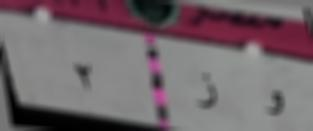2: (72, 58, 97, 93)
waw: (262, 86, 288, 123)
zay: (193, 70, 222, 114)
